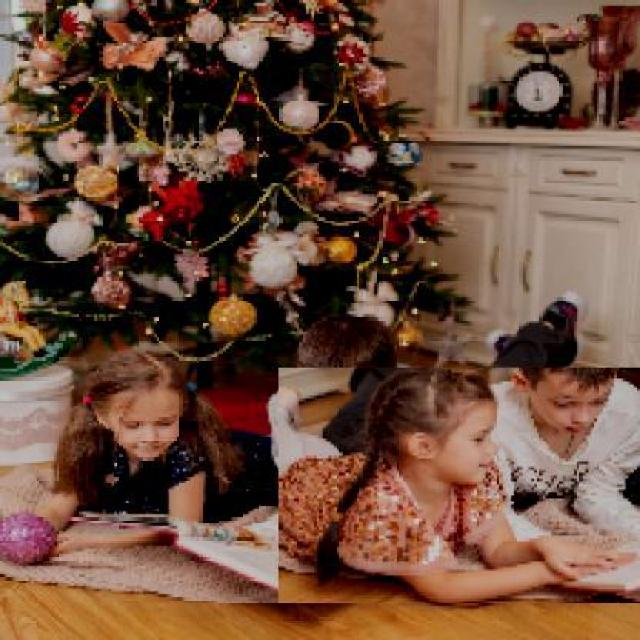child: (277, 368, 640, 606), (35, 347, 292, 559)
